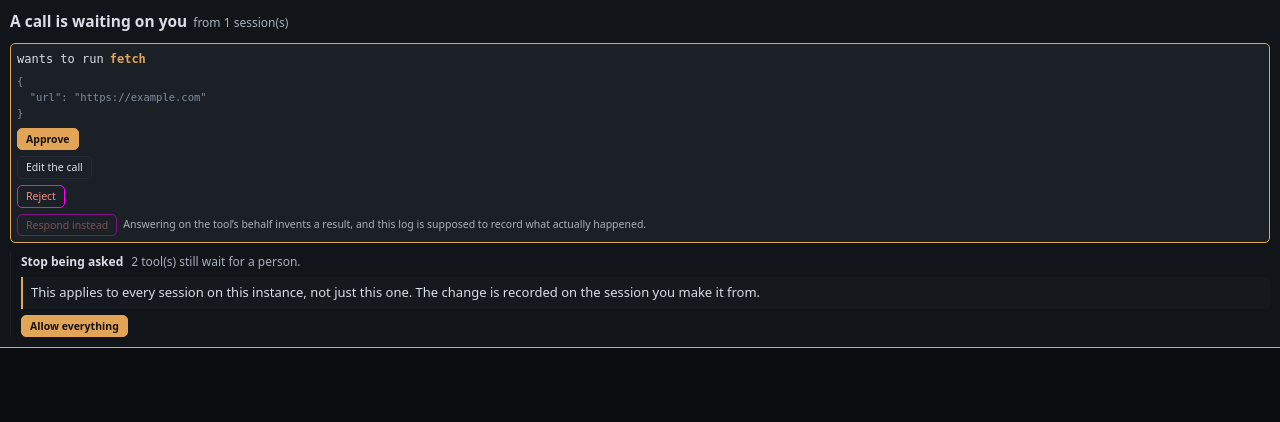
Test: refuses to send an edit that is not valid JSON, rather than letting the server refuse it
The width and height of the screenshot is (1280, 422).
Click the button "Edit the call": (54, 168) x1=17 y1=156 x2=92 y2=179
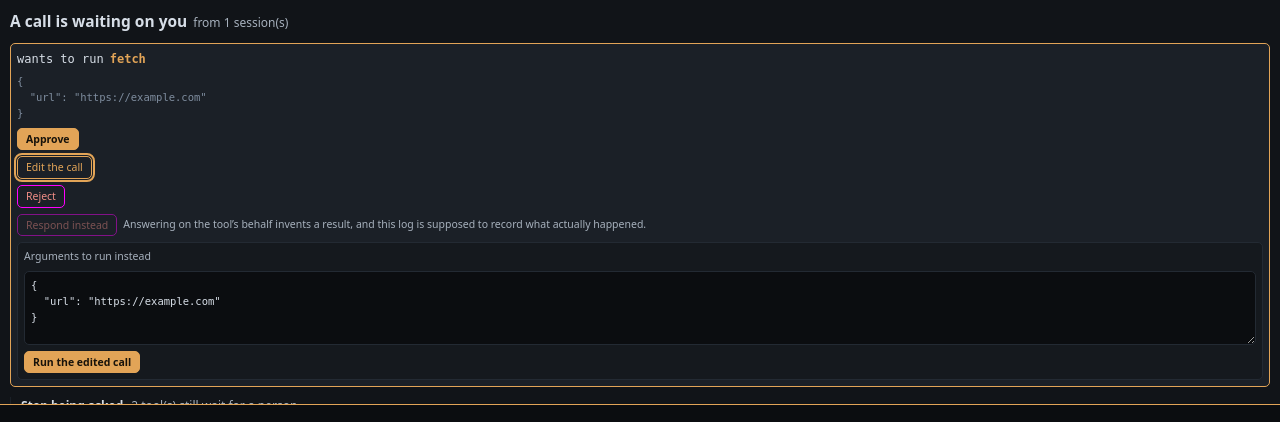
Replace the text in the text box labelled "Arguments to run instead" with "not json": (640, 308) x1=24 y1=271 x2=1256 y2=344
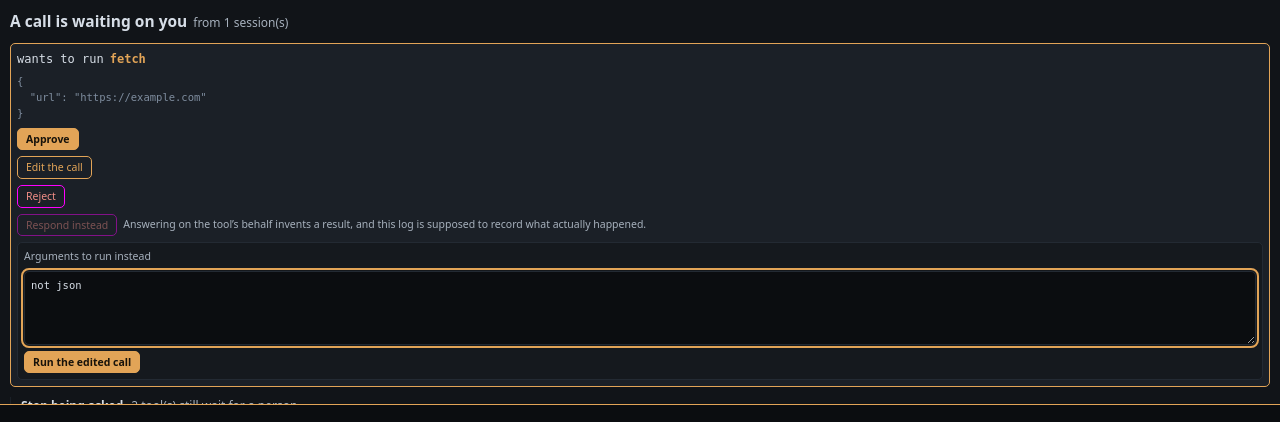
Click the button "Run the edited call": (82, 362) x1=24 y1=350 x2=140 y2=373
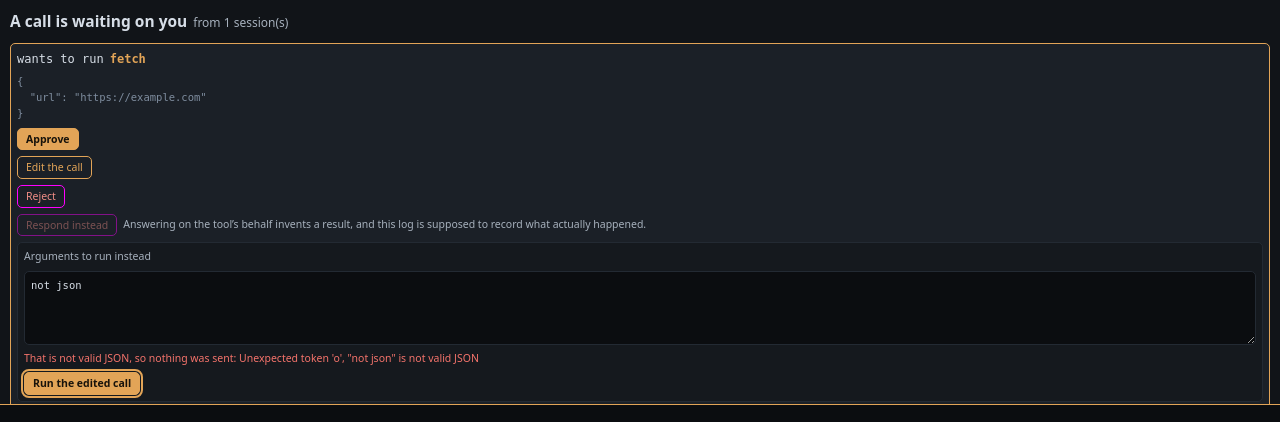
expect the message shows "not valid JSON": met, box x1=24 y1=350 x2=479 y2=364
